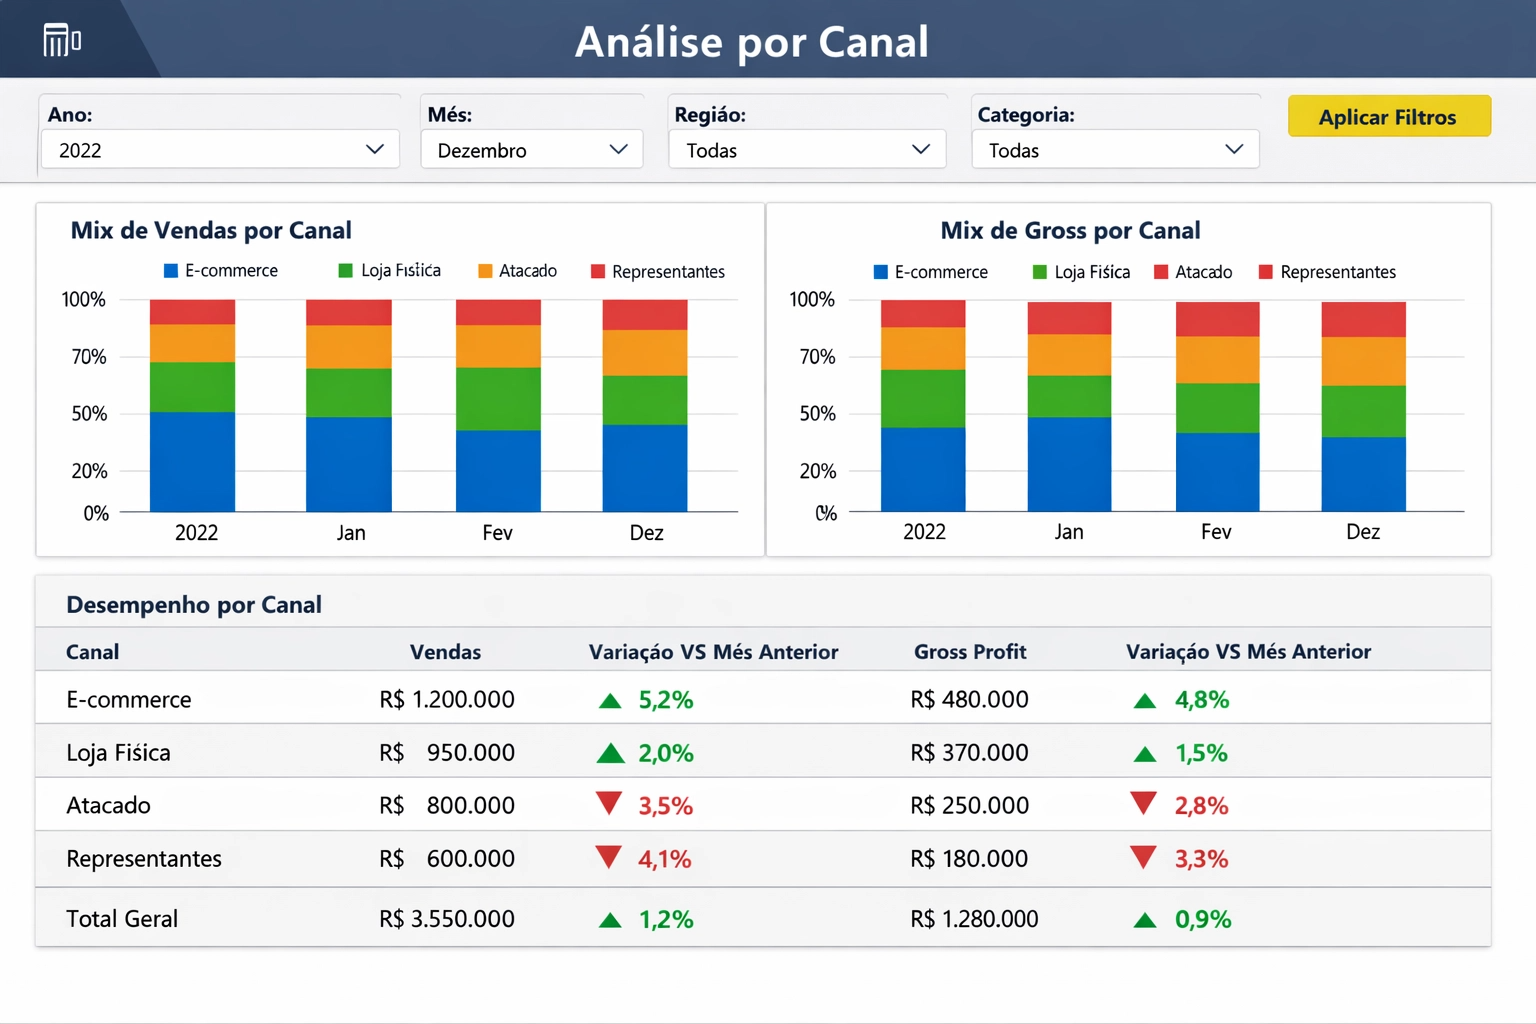

Layout of this report page (visuals, bound fields, positions):
{"tool":"powerbi","page":{"name":"Análise por Canal","canvas":[1280,720],"ordinal":1},"visuals":[{"type":"slicer","fields":{"Values":["Dim_Tempo.Ano"]},"box":[14.1,96.4,167.5,75.1],"z":0},{"type":"slicer","fields":{"Values":["Dim_Tempo.Mes_Nome"]},"box":[198.8,96.4,167.5,75.1],"z":1000},{"type":"slicer","fields":{"Values":["Dim_Local.UF"]},"box":[380.3,96.4,167.5,75.1],"z":2000},{"type":"slicer","fields":{"Values":["Dim_Local.CIDADE"]},"box":[558.3,96.1,167.5,75.3],"z":3000},{"type":"slicer","fields":{"Values":["Dim_Canal.CANAL"]},"box":[735.6,96.4,167.5,75.1],"z":4000},{"type":"slicer","fields":{"Values":["Dim_Produto.TECNOLOGIA"]},"box":[919.3,96.1,167.5,75.3],"z":5000},{"type":"slicer","fields":{"Values":["Dim_Produto.PLANO"]},"box":[1097.2,96.4,167.5,75.1],"z":6000},{"type":"textbox","box":[14.3,0,1250.4,84.4],"z":7000},{"type":"pageNavigator","box":[890.7,16.9,361,50.6],"z":16000}]}

Visuals, with their boxes on the page's 1280x720 design canvas (x1, y1, x2, y2). These are canvas units, not pixel positions in the 1536x1024 screenshot, which may show the page scaled, cropped or inside an application window:
slicer - Dim_Tempo.Ano: bbox(14, 96, 182, 172)
slicer - Dim_Tempo.Mes_Nome: bbox(199, 96, 366, 172)
slicer - Dim_Local.UF: bbox(380, 96, 548, 172)
slicer - Dim_Local.CIDADE: bbox(558, 96, 726, 171)
slicer - Dim_Canal.CANAL: bbox(736, 96, 903, 172)
slicer - Dim_Produto.TECNOLOGIA: bbox(919, 96, 1087, 171)
slicer - Dim_Produto.PLANO: bbox(1097, 96, 1265, 172)
textbox: bbox(14, 0, 1265, 84)
pageNavigator: bbox(891, 17, 1252, 68)
